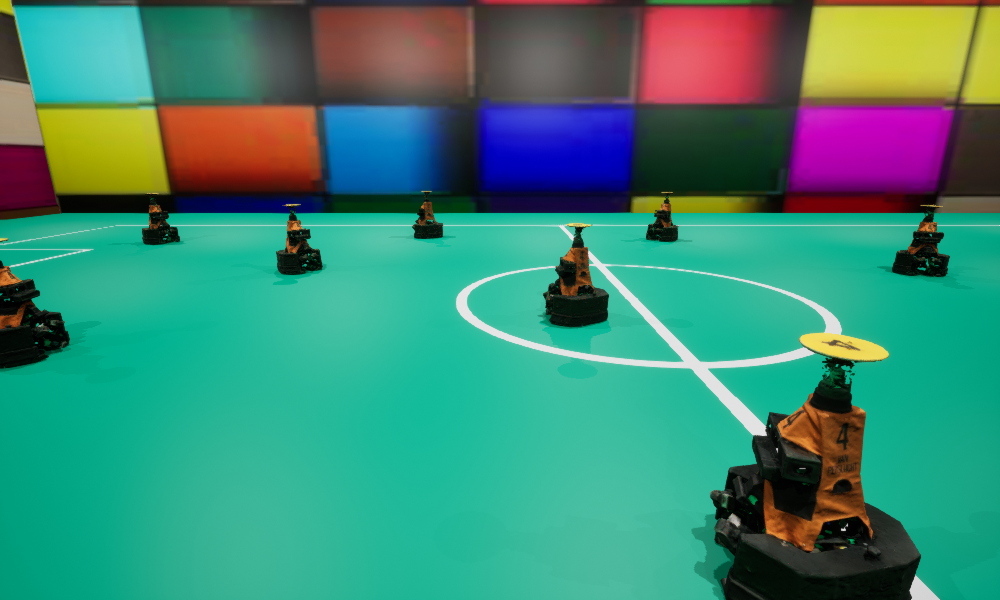o: (710, 333, 920, 599), (0, 238, 69, 368), (543, 223, 608, 326), (892, 205, 949, 276), (276, 204, 322, 274), (142, 193, 179, 244), (646, 192, 678, 241), (412, 191, 442, 238)
